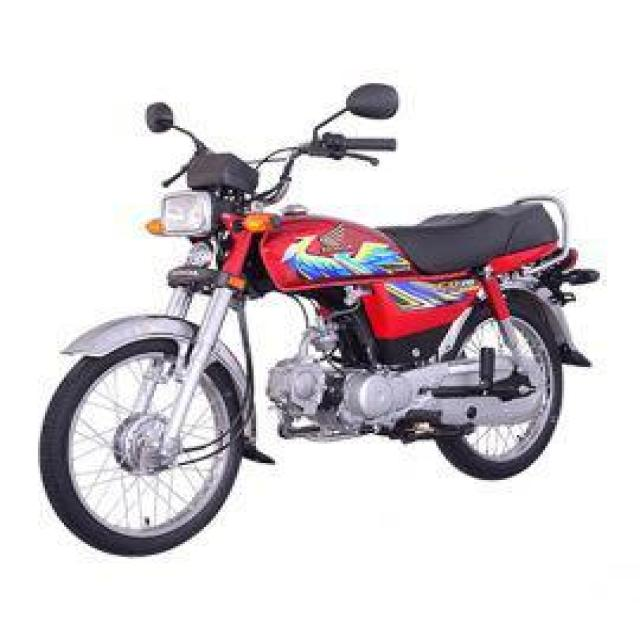motorcycle: (21, 48, 619, 556)
